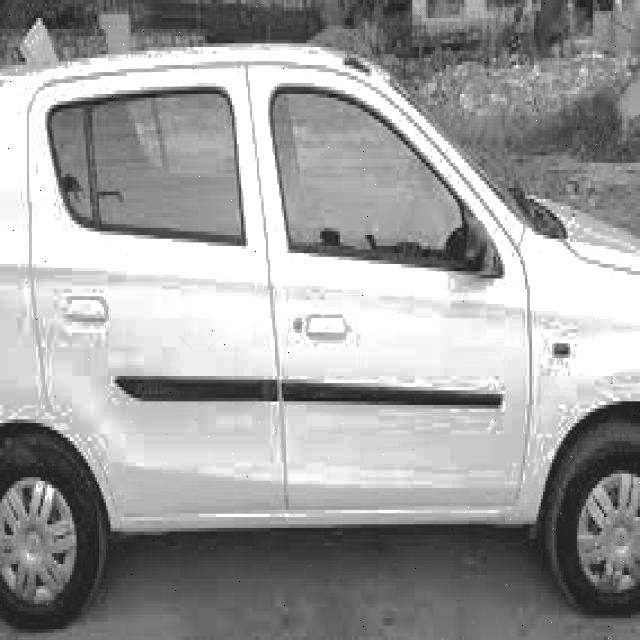Car: (0, 47, 640, 619)
